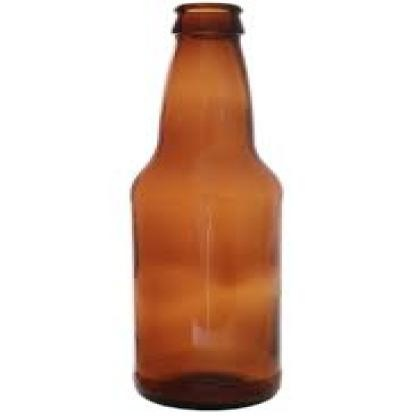trash: (132, 3, 281, 408)
